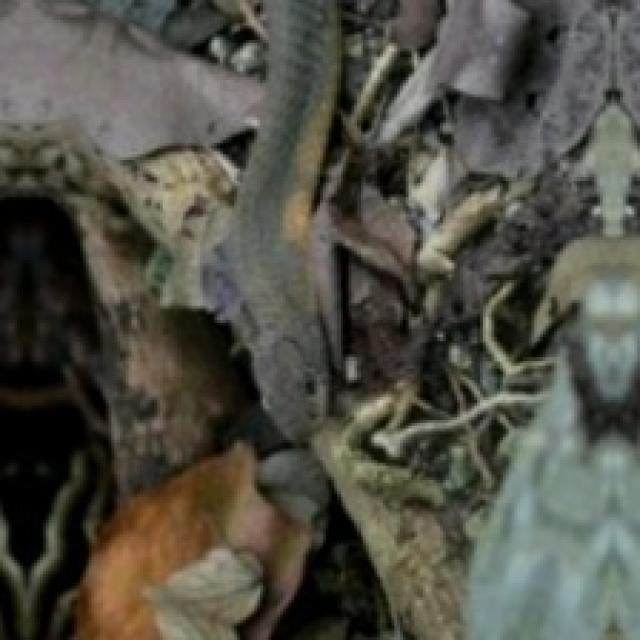king cobra: (236, 0, 339, 442)
